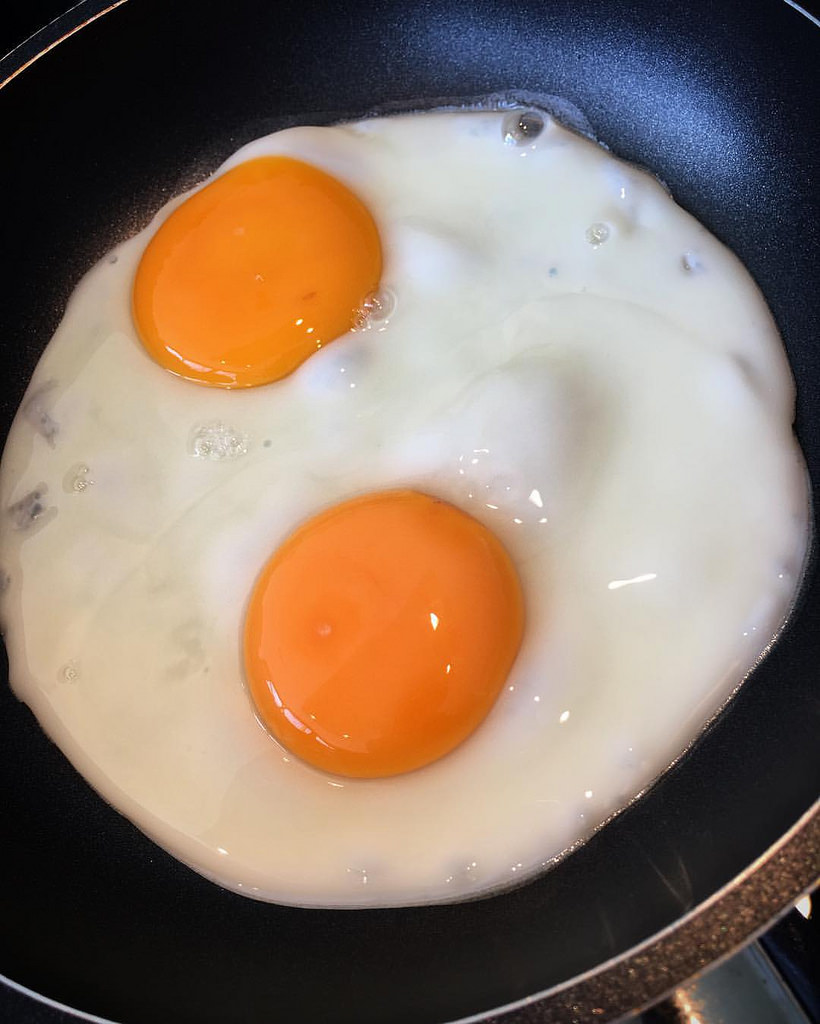fried egg: (147, 205, 587, 843)
